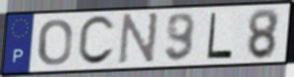8: (246, 7, 281, 62)
9: (164, 11, 195, 64)
C: (76, 14, 118, 68)
L: (205, 11, 235, 61)
N: (115, 11, 162, 66)
O: (37, 18, 74, 68)
